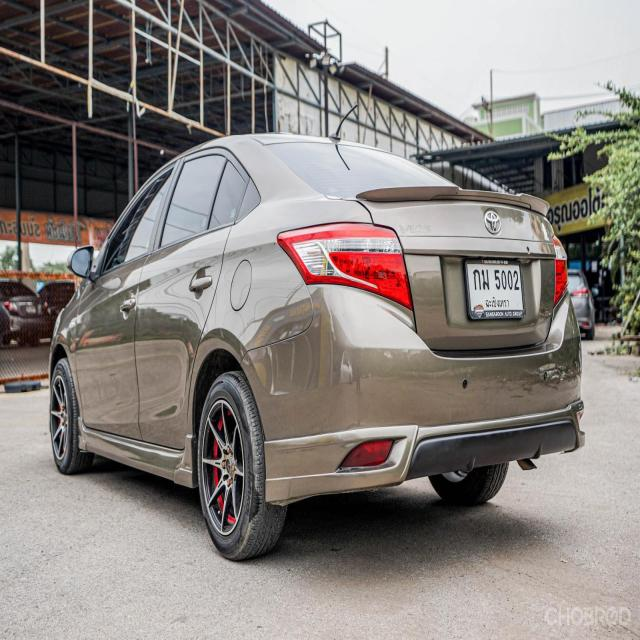license_plate: (462, 246, 531, 327)
